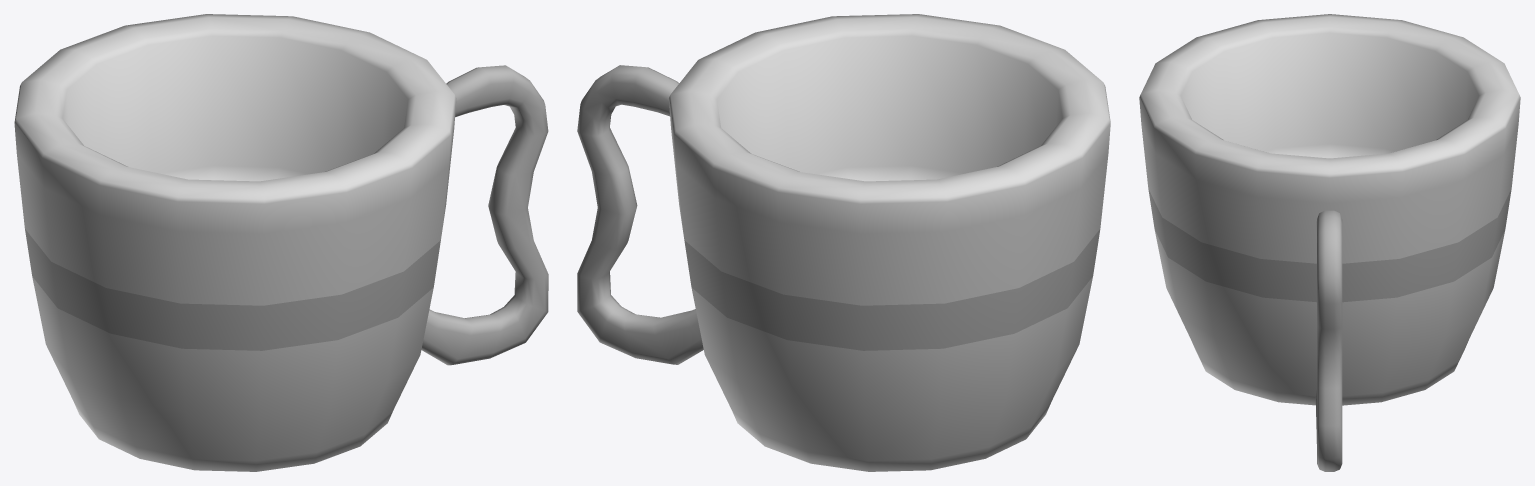
Rendered from Mug.fbx.
3 views of the same model, side by side, from view 1: azimuth 30°, elevation 25°; view 2: azimuth 150°, elevation 25°; view 3: azimuth 270°, elevation 25° (orthographic). The views are drawn at different scales.
Visible parts, largest first — view 1: Cup; view 2: Cup; view 3: Cup.
Part boxes in pixels (x1,y1,x2,y2): Cup: [14, 14, 548, 471]; Cup: [577, 14, 1110, 471]; Cup: [1139, 14, 1520, 471].
Size of the model in its own units: 5.71 by 3.42 by 4.39.
